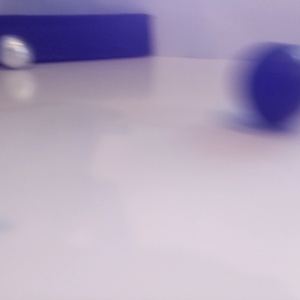zone: (1, 10, 198, 59)
